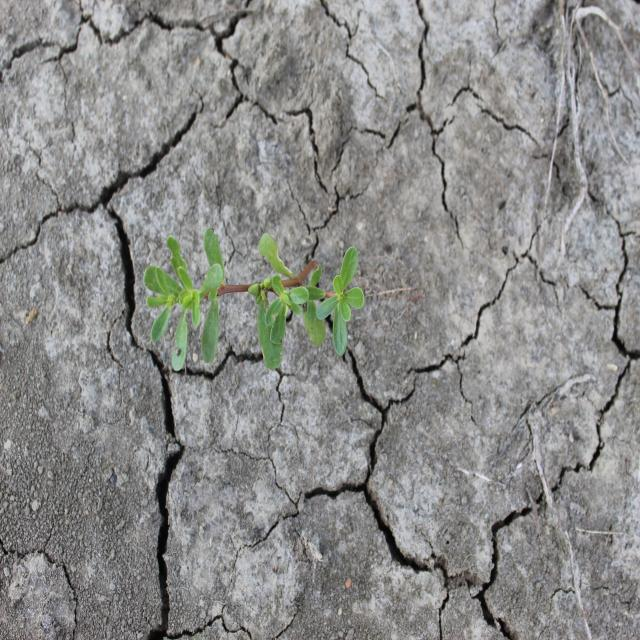Purslane: (141, 225, 365, 373)
